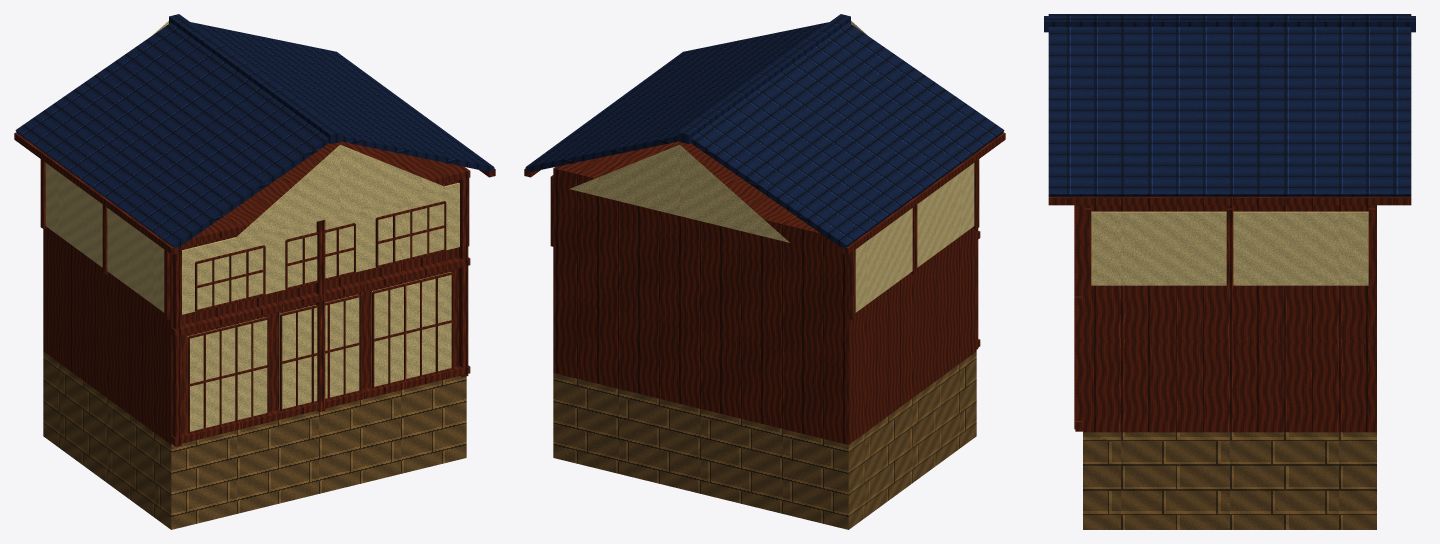
File: corner_house.glb
3 views of the same model, side by side, from view 1: azimuth 30°, elevation 25°; view 2: azimuth 150°, elevation 25°; view 3: azimuth 270°, elevation 25° (orthographic). The views are drawn at different scales.
Parts seen in each view (by area): view 1: Body, Roof; view 2: Body, Roof; view 3: Body, Roof.
Boxes of the visible parts, <box> form: Body: <box>40,141,470,529</box>; Roof: <box>14,14,495,254</box>; Body: <box>550,141,980,529</box>; Roof: <box>524,14,1005,254</box>; Body: <box>1074,205,1376,529</box>; Roof: <box>1044,14,1415,205</box>.
Size of the model in its own units: 8.78 by 9.65 by 8.
4 materials, 4 textured.
